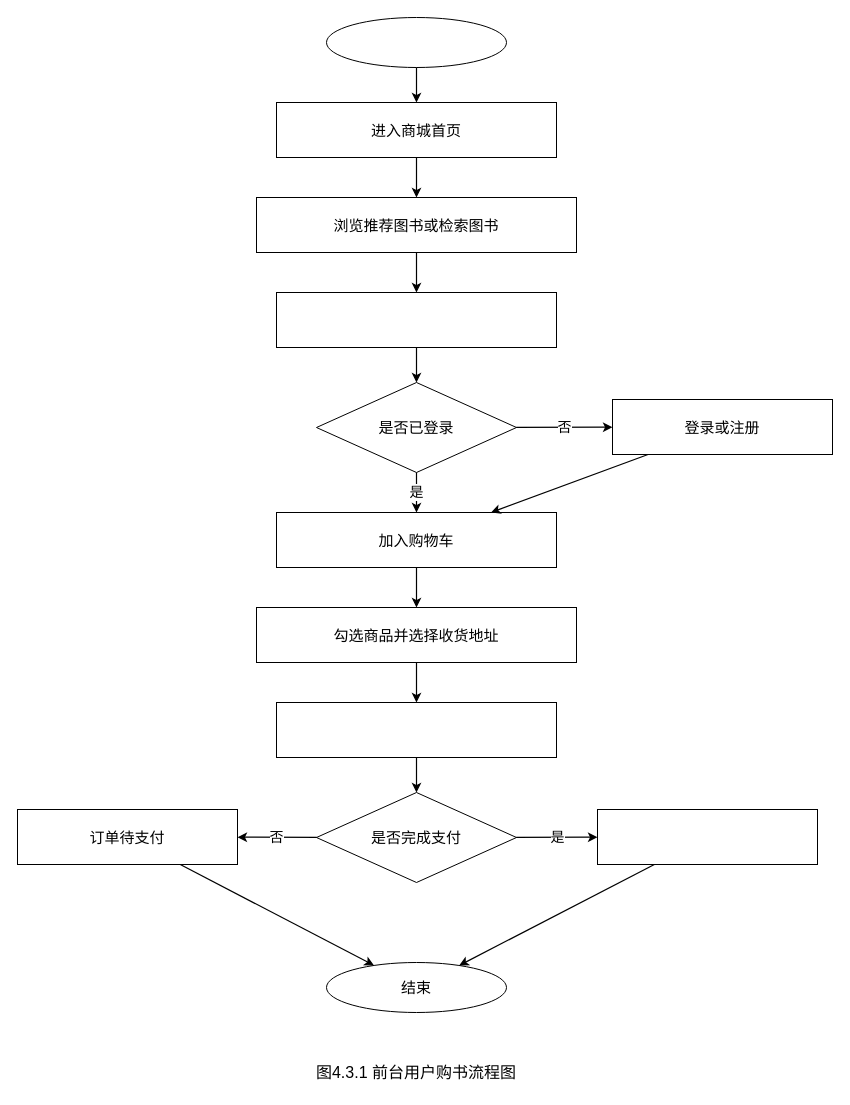
Some shapes in this 850 by 1105 pixel diagram are drawn without their labels. The shapes that lost their labels are listed below. From the top down, each one's centre as x and y in pixels, then its label:
[416,42]: 开始
[416,320]: 查看图书详情
[416,730]: 生成待支付订单
[707,836]: 订单待发货
